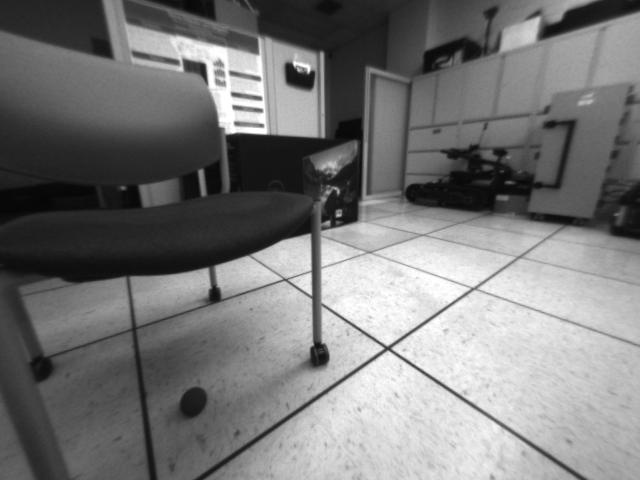dogtoy: (169, 380, 213, 421)
